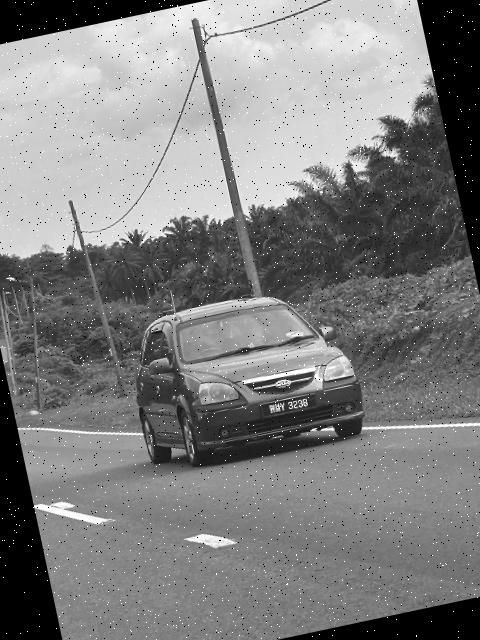License_Plate: (260, 391, 321, 422)
car: (120, 278, 376, 480)
